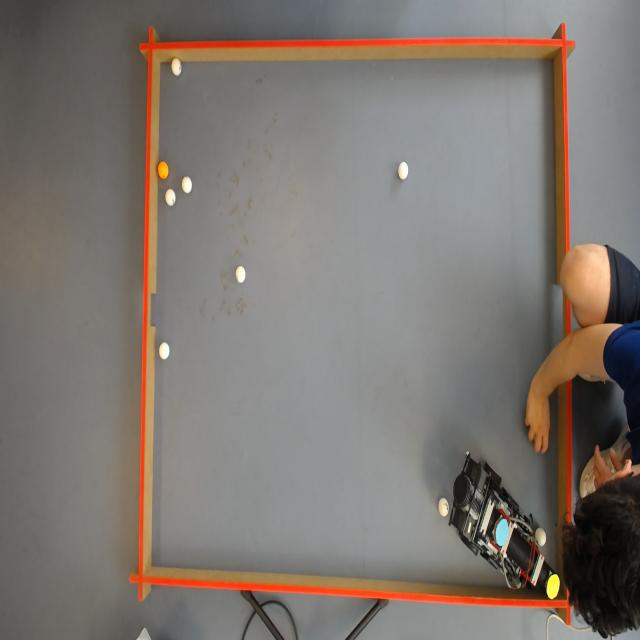orange: (158, 161, 169, 180)
robot: (444, 452, 566, 594)
robot-front: (546, 576, 558, 597)
robot-rear: (497, 518, 510, 548)
white: (398, 160, 410, 181), (437, 499, 450, 518), (536, 526, 547, 548), (159, 340, 171, 358), (182, 178, 194, 195), (164, 190, 175, 208), (171, 58, 183, 74), (236, 267, 248, 282)
